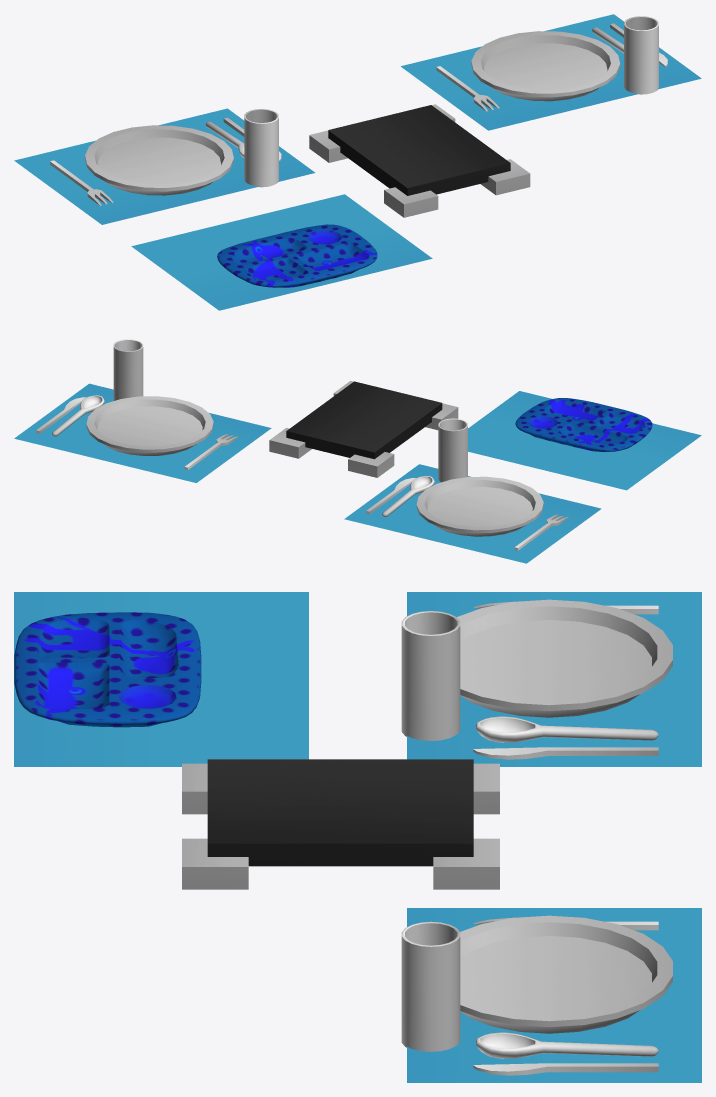
The model's file is TableSet.FBX.
3 renders of one model, top to bottom at view 1: azimuth 30°, elevation 25°; view 2: azimuth 150°, elevation 25°; view 3: azimuth 270°, elevation 25°, orthographic. The views are drawn at different scales.
Parts seen in each view (by area): view 1: Plate001, Plate, Coster, PlaceMet, ChamferBox001, Glass1, Glass2; view 2: Plate, Plate001, Coster, PlaceMet, ChamferBox001, Glass2, Glass1; view 3: Plate, Plate001, Coster, PlaceMet, ChamferBox001, Glass2, Glass1.
Part boxes in pixels (bbox=[...]): Plate001: bbox=[14, 108, 315, 224]; Plate: bbox=[401, 14, 701, 130]; Coster: bbox=[309, 104, 530, 217]; PlaceMet: bbox=[131, 194, 432, 310]; ChamferBox001: bbox=[217, 224, 377, 287]; Glass1: bbox=[624, 16, 658, 94]; Glass2: bbox=[244, 109, 278, 187]; Plate: bbox=[14, 383, 271, 482]; Plate001: bbox=[344, 464, 601, 563]; Coster: bbox=[269, 381, 458, 477]; PlaceMet: bbox=[468, 391, 701, 490]; ChamferBox001: bbox=[515, 398, 652, 451]; Glass2: bbox=[438, 418, 467, 482]; Glass1: bbox=[113, 339, 143, 400]; Plate: bbox=[407, 908, 701, 1082]; Plate001: bbox=[407, 592, 701, 766]; Coster: bbox=[182, 759, 499, 889]; PlaceMet: bbox=[14, 592, 308, 766]; ChamferBox001: bbox=[14, 612, 201, 727]; Glass2: bbox=[401, 611, 460, 740]; Glass1: bbox=[401, 921, 460, 1051].
Bounding box in the file's own units: 175 × 17.81 × 103.
Materials: 1 (1 with a texture image).
